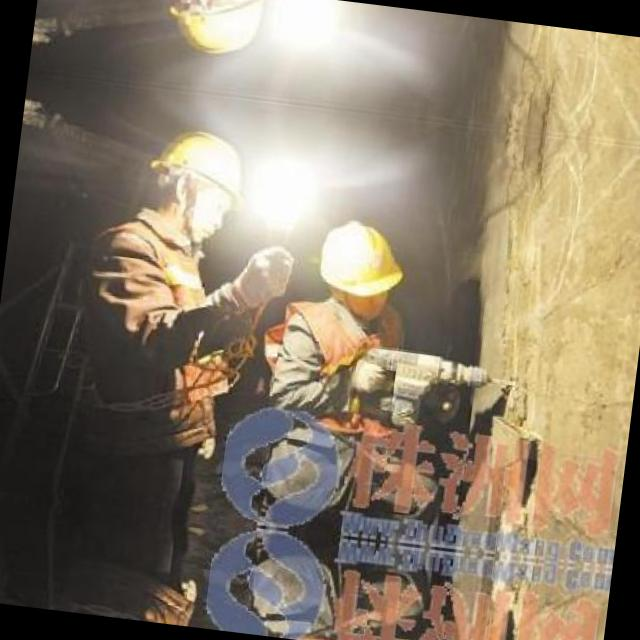helmet: (138, 120, 255, 254), (308, 212, 409, 328), (161, 0, 273, 62)
